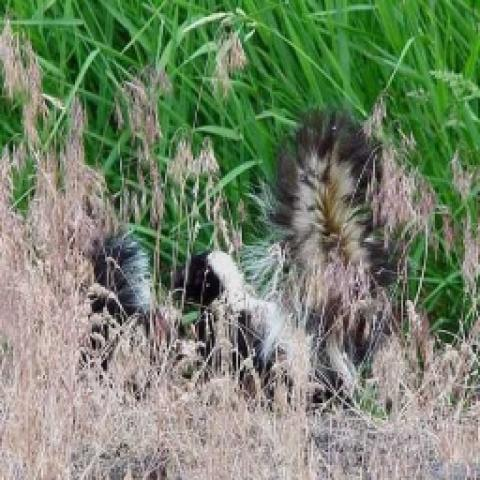small_animal: (176, 120, 386, 425), (79, 224, 169, 398)
